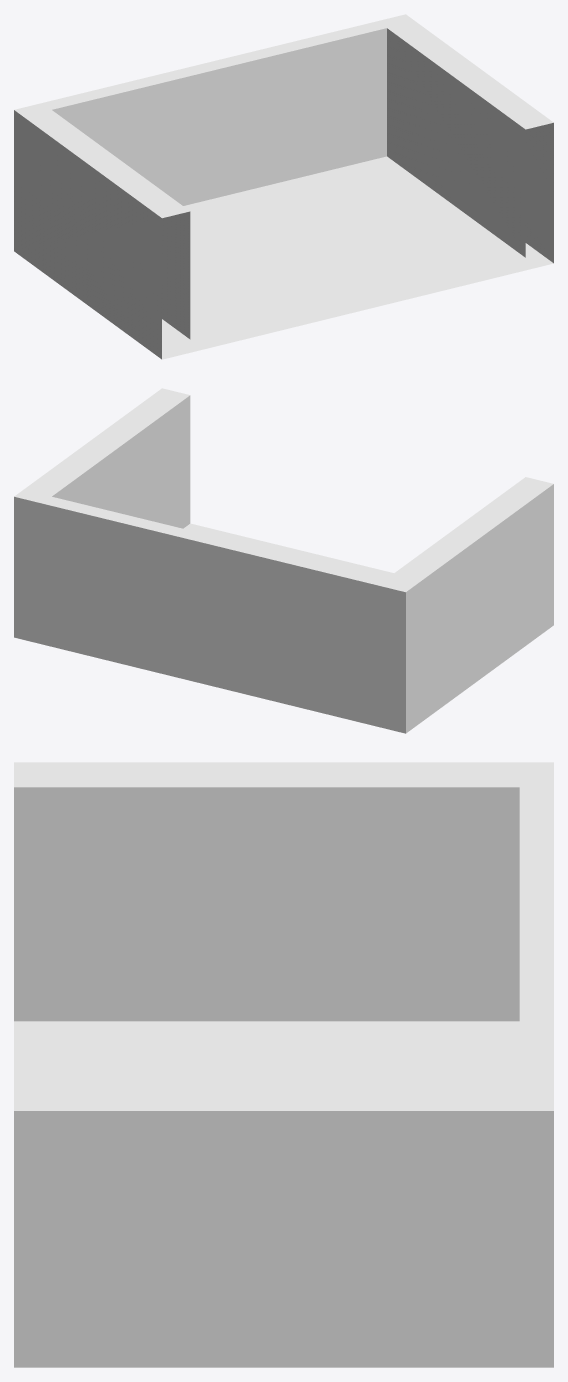
The model's file is Itr_Obj_Fridge1_Door_Drawer1_01.FBX.
3 views of the same model, one above another, from view 1: azimuth 30°, elevation 25°; view 2: azimuth 150°, elevation 25°; view 3: azimuth 270°, elevation 25° (orthographic). The views are drawn at different scales.
Parts seen in each view (by area): view 1: Itr_Obj_Fridge1_Door_Drawer1_01; view 2: Itr_Obj_Fridge1_Door_Drawer1_01; view 3: Itr_Obj_Fridge1_Door_Drawer1_01.
Part boxes in pixels (x1,y1,x2,y2): Itr_Obj_Fridge1_Door_Drawer1_01: (14, 14, 553, 359); Itr_Obj_Fridge1_Door_Drawer1_01: (14, 388, 553, 733); Itr_Obj_Fridge1_Door_Drawer1_01: (14, 762, 553, 1367).
Size of the model in its own units: 13.41 by 4.62 by 8.78.
